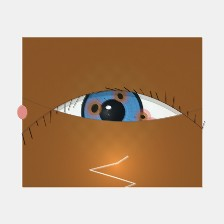foreign_body_visible: (128, 109, 174, 146)
